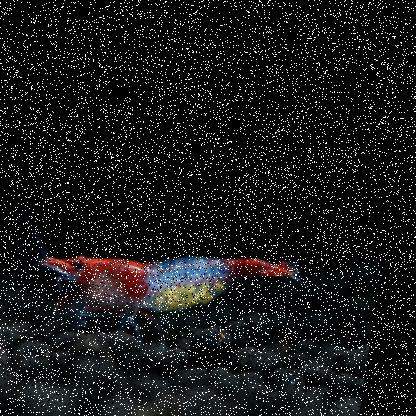shrimp: (34, 238, 316, 337)
